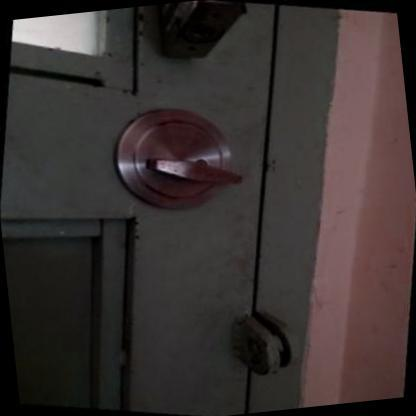lock: (77, 74, 303, 249)
